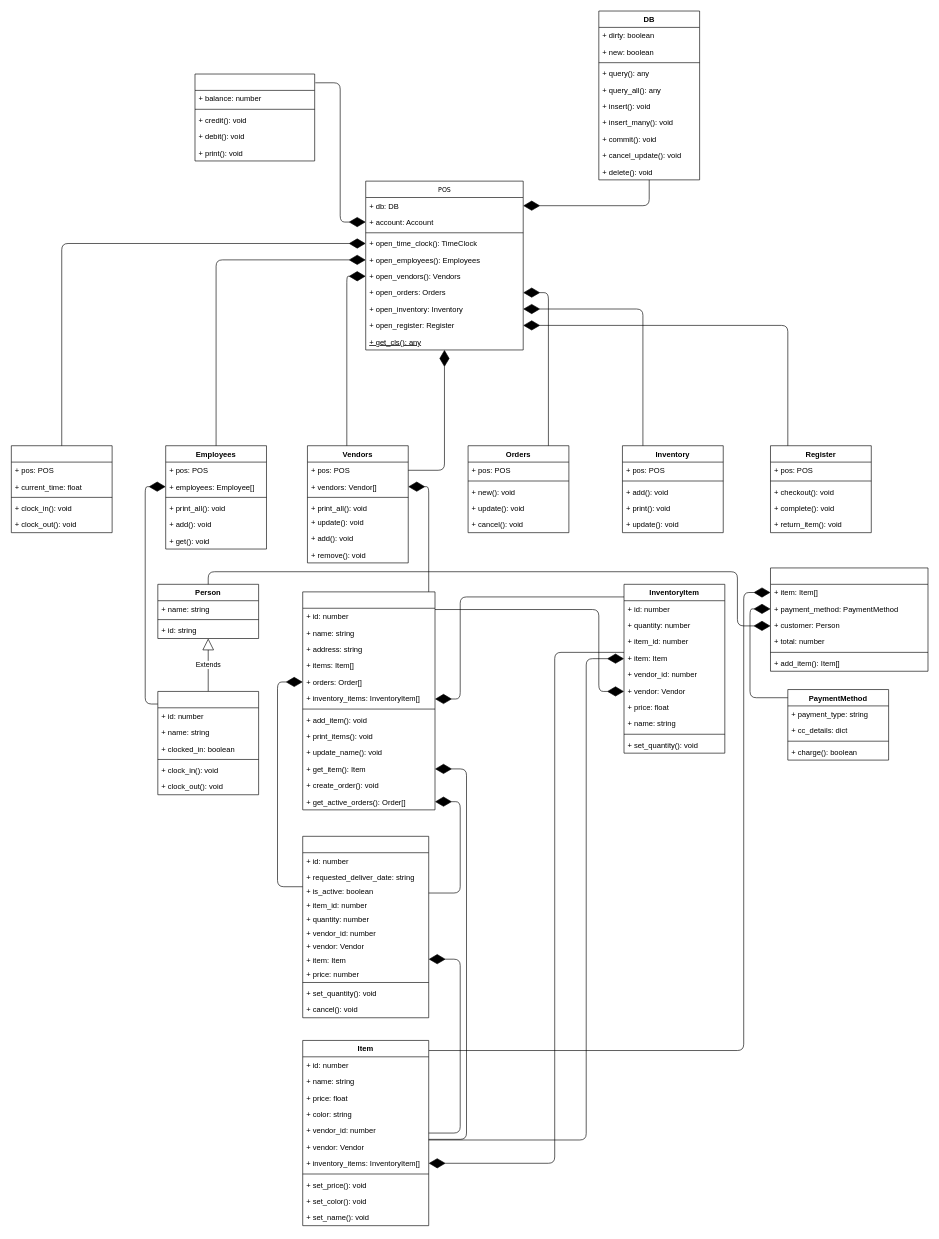
Some shapes in this 939 by 1239 pixel diagram are drawn without their labels. Here are the shapes that lost their labels. From the top down, the box of each, then its label:
(194, 73, 315, 161): Account
(11, 445, 112, 533): TimeClock
(770, 567, 928, 671): Transaction
(302, 591, 435, 810): Vendor
(157, 691, 259, 795): Employee
(302, 836, 429, 1018): Order
